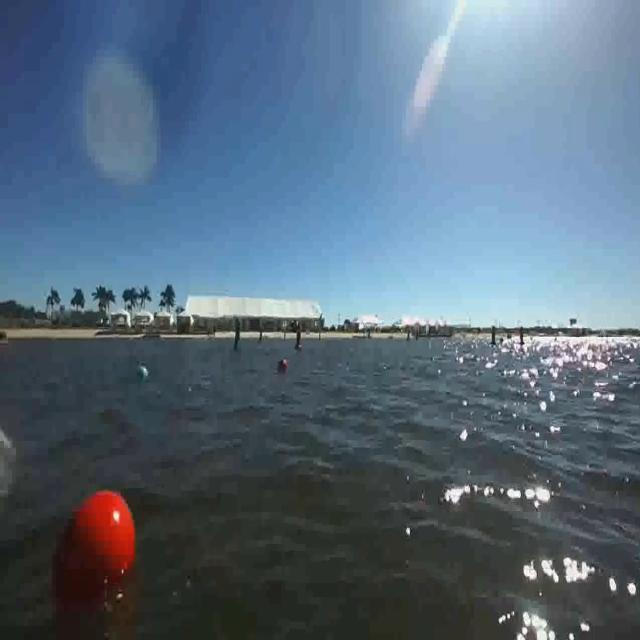green-buoy: (136, 364, 150, 384)
green-column-buoy: (233, 317, 245, 353)
red-buoy: (48, 484, 140, 594), (277, 358, 290, 378)
red-column-buoy: (293, 323, 303, 352)
